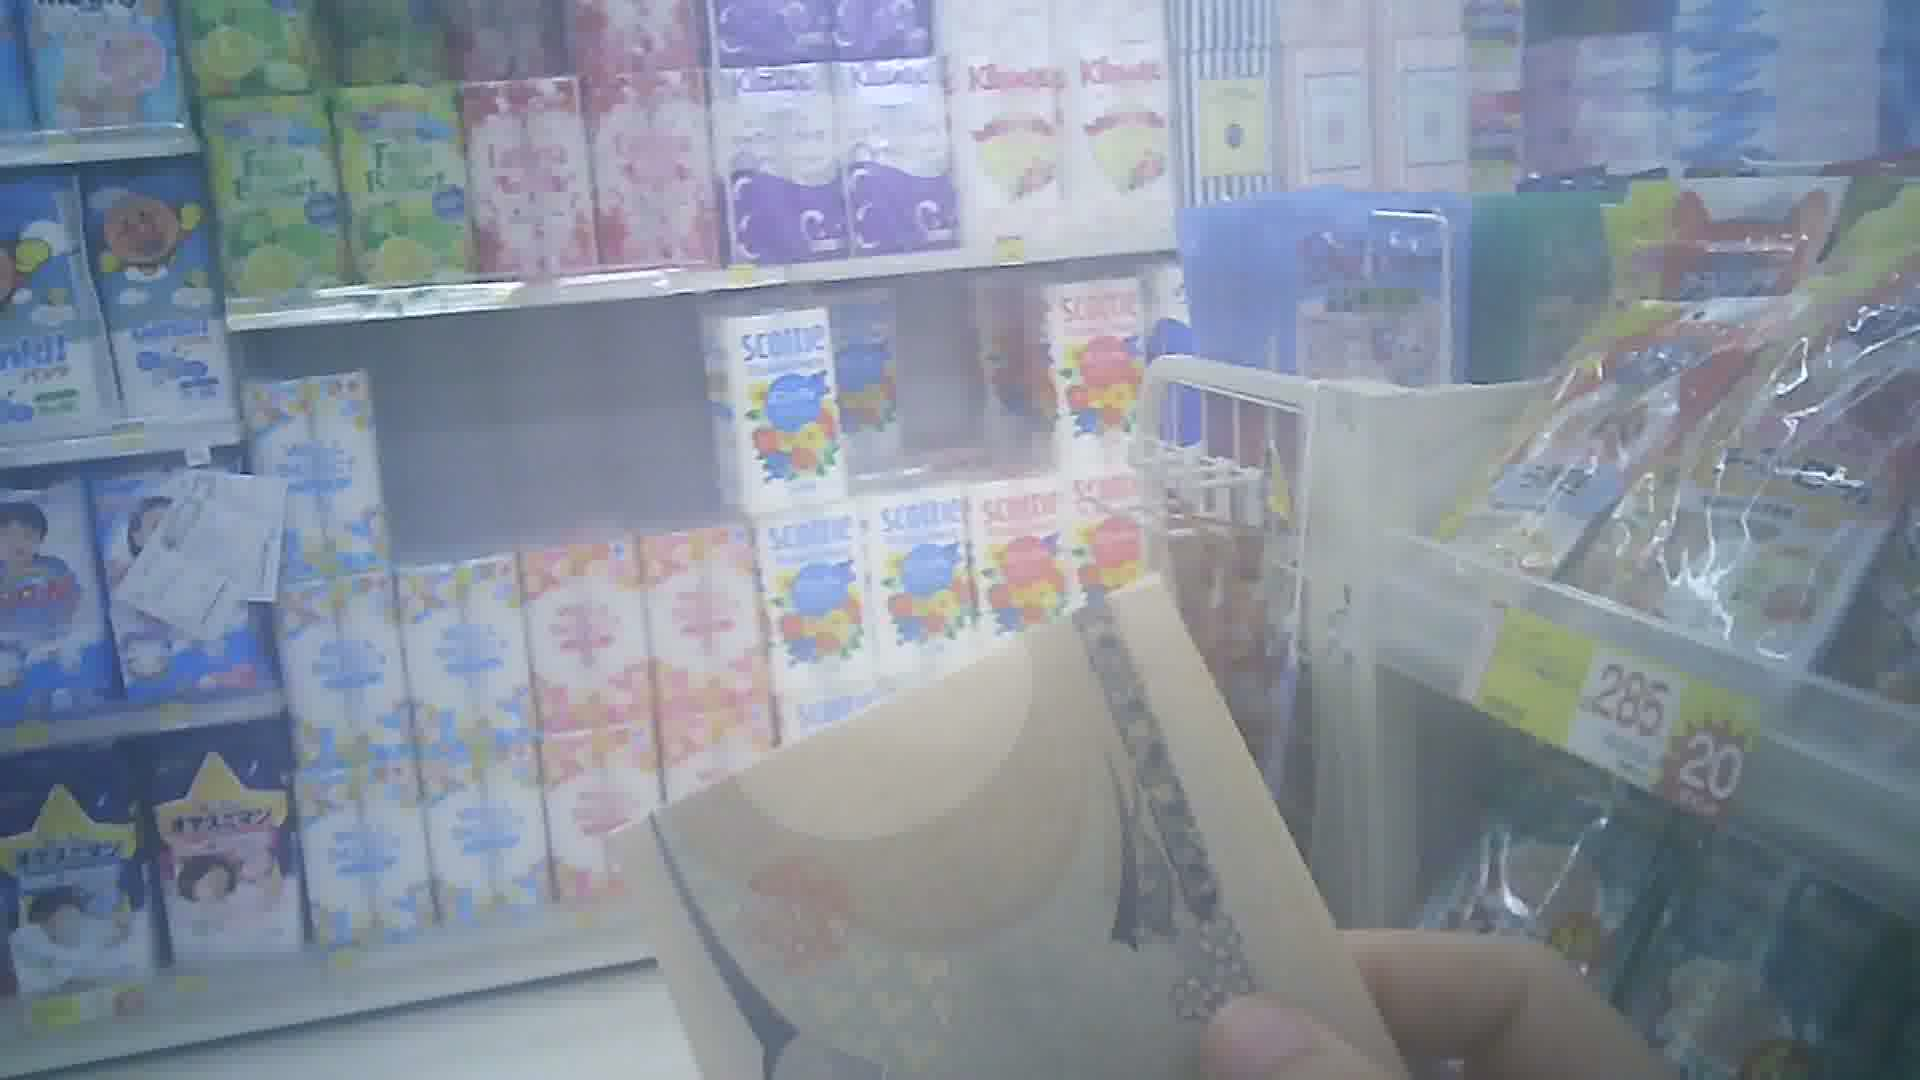1,000 Yen: (603, 575, 1423, 1079)
